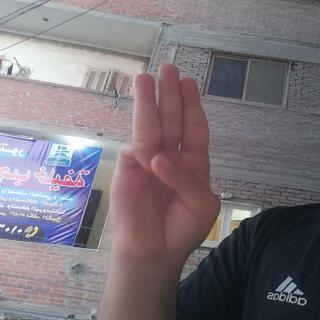THA: (102, 59, 230, 262)
